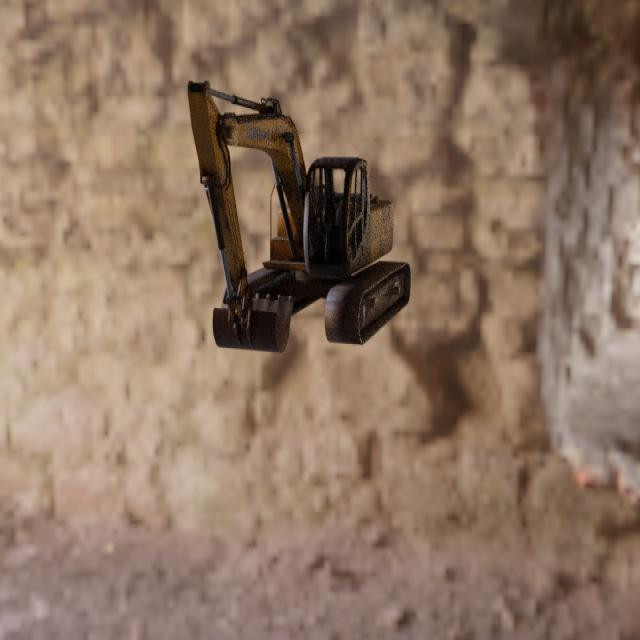excavator: (187, 79, 411, 353)
